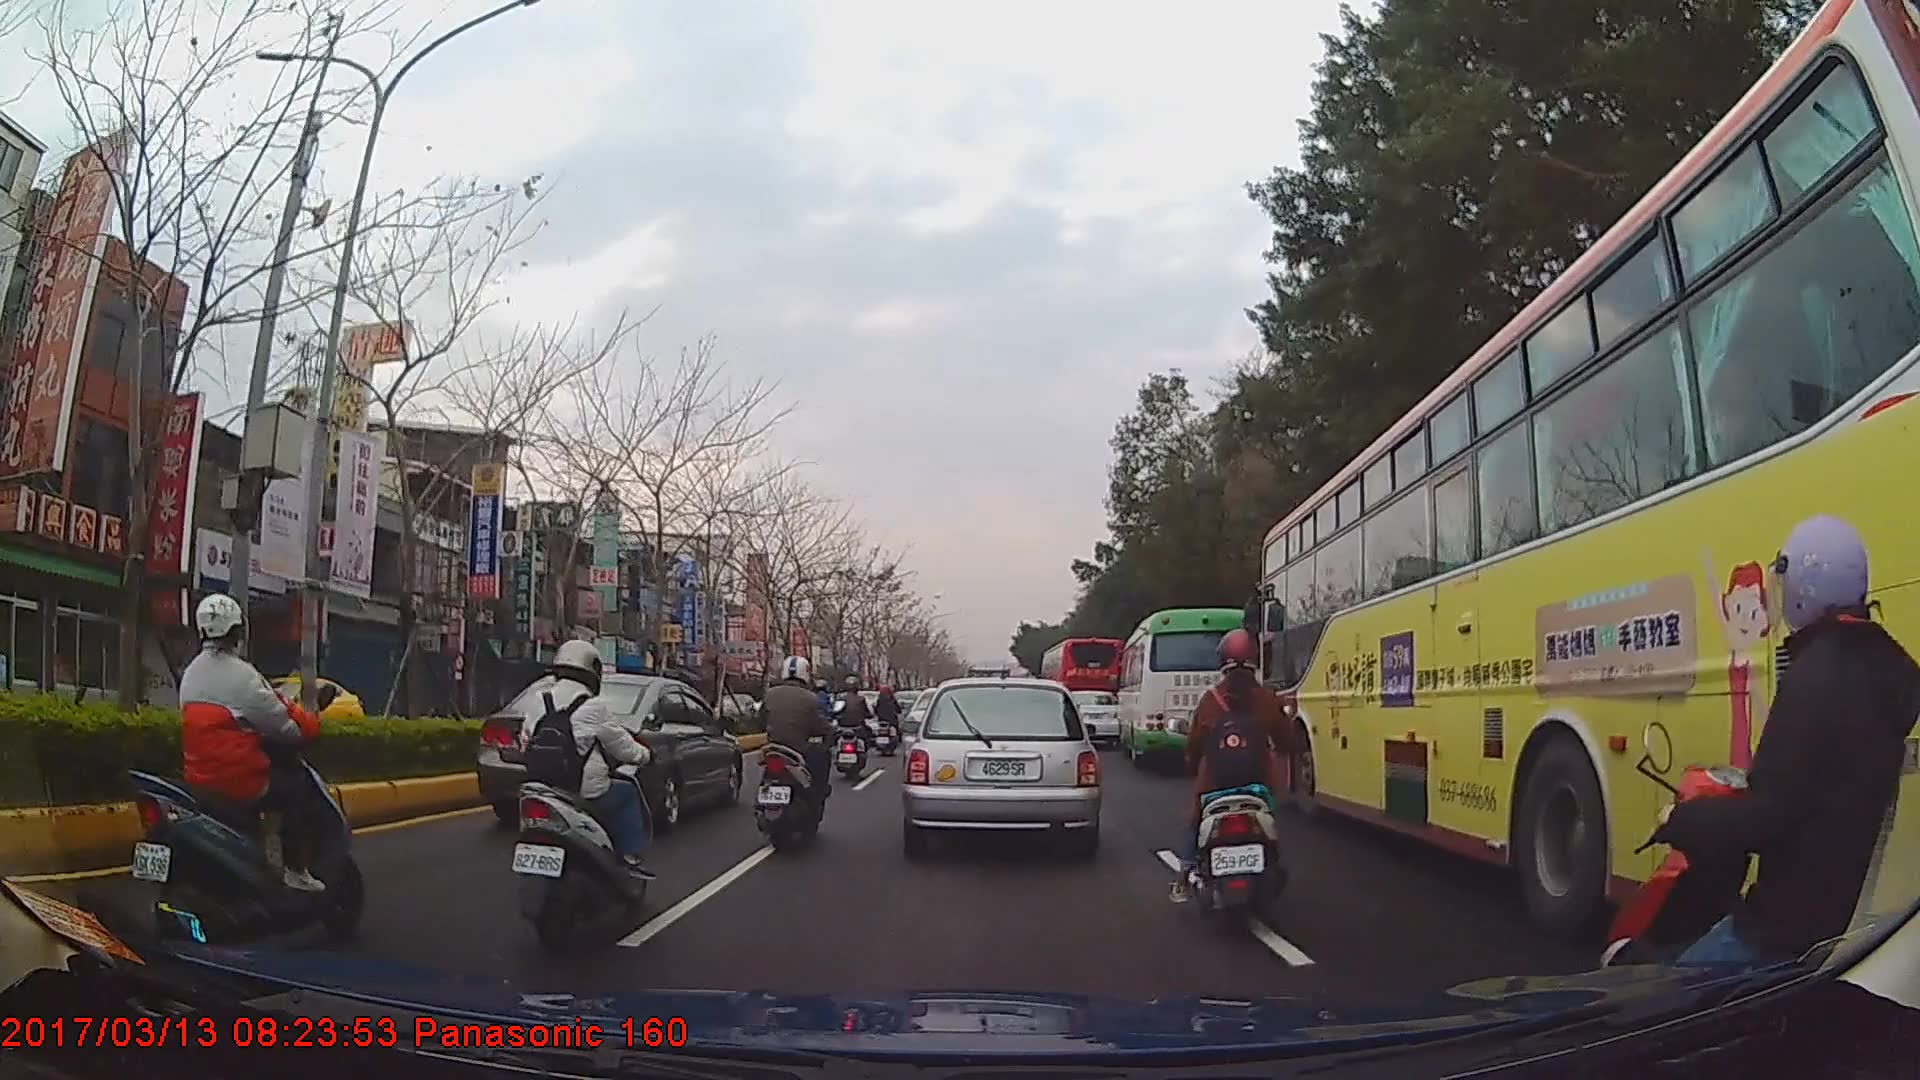rider: (1596, 516, 1920, 1055), (126, 589, 367, 960), (508, 635, 653, 952), (1159, 629, 1299, 934), (748, 653, 835, 854), (833, 676, 874, 780), (874, 681, 902, 756)
vehicle: (1258, 0, 1920, 941), (473, 675, 740, 829), (902, 673, 1099, 852), (1115, 605, 1262, 769), (214, 663, 368, 743), (1040, 633, 1126, 737)
